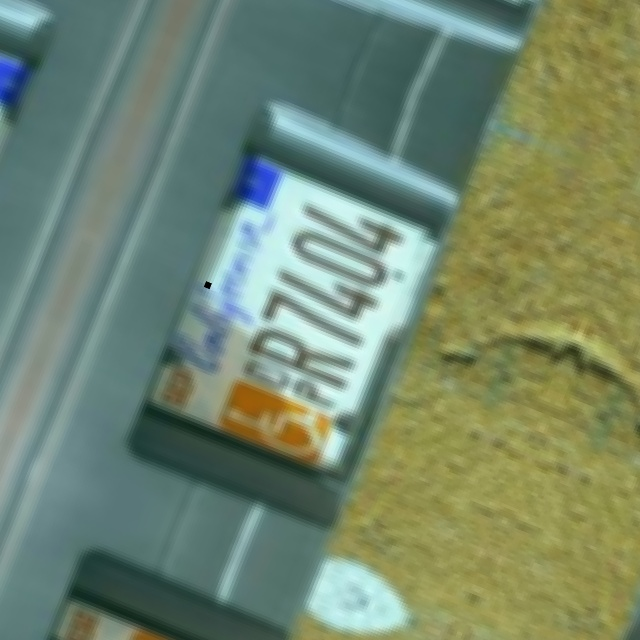ISA: (222, 383, 327, 462), (122, 632, 227, 640)
